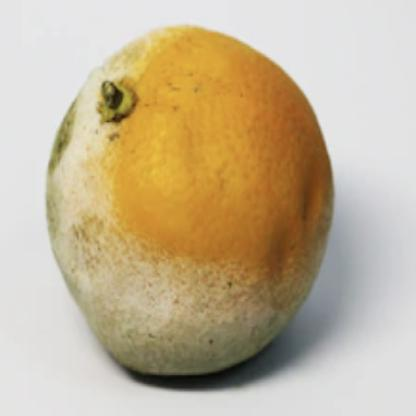rotten: (46, 22, 334, 383)
